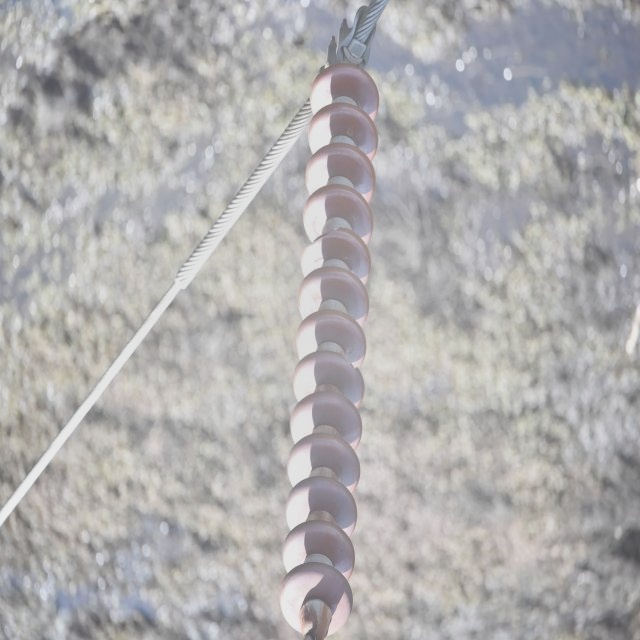broken: (302, 223, 352, 254), (339, 354, 364, 377)
insulator: (279, 61, 380, 632)
